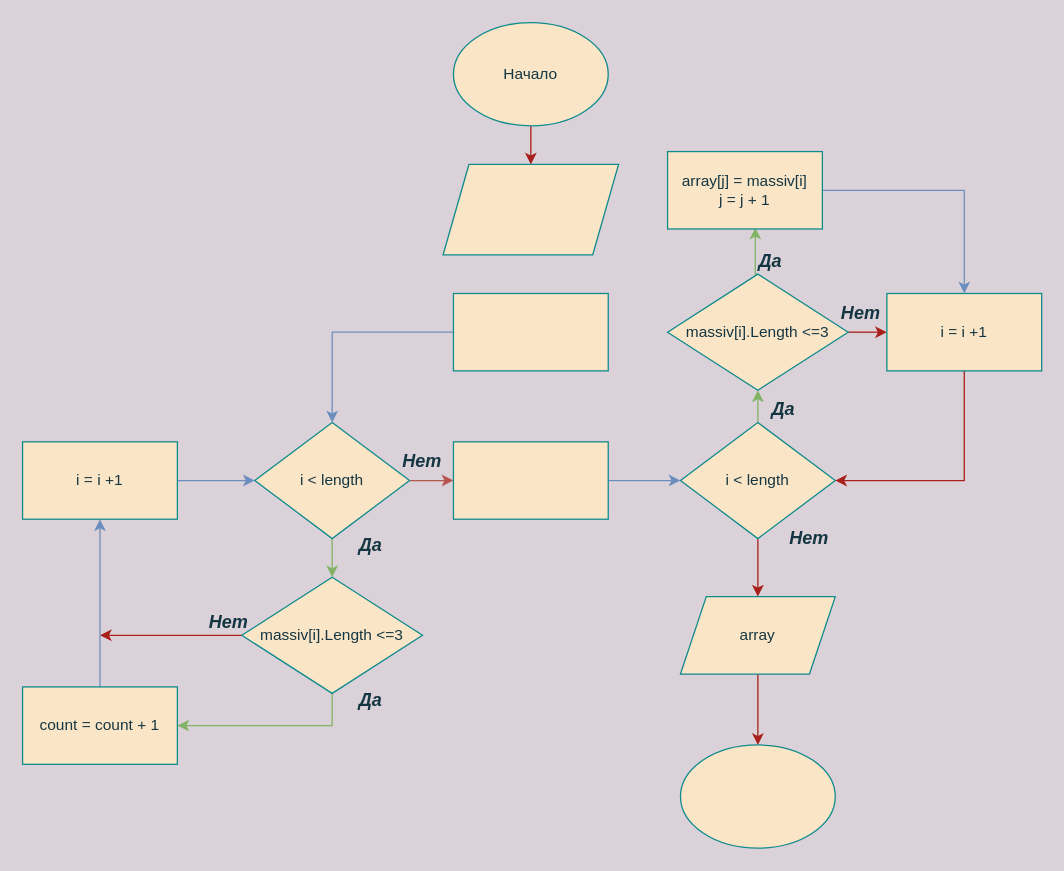
This 1064x871 diagram has some shape labels left out. The shapes that lost their labels are listed below. From the top down, each one's centre as x and y in pixels, then its label:
the point at 530,209: massiv; length
the point at 530,331: count = 0; i = 0;
the point at 530,480: array[count] = new j = 0
the point at 757,796: Конец
